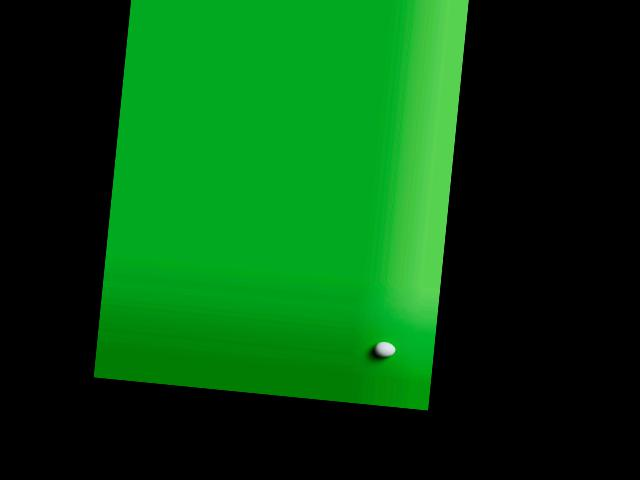egg: (373, 340, 395, 358)
